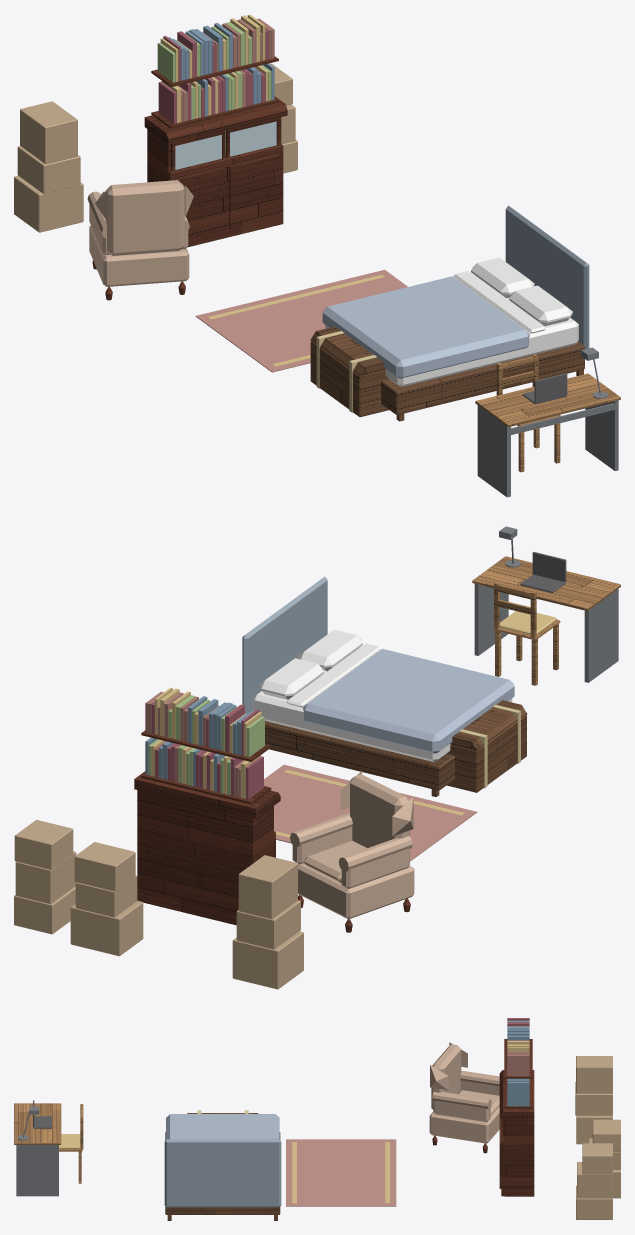
The model's file is furn_a_l.glb.
The picture shows the model from 3 angles, top to bottom: view 1: azimuth 30°, elevation 25°; view 2: azimuth 150°, elevation 25°; view 3: azimuth 270°, elevation 25°; orthographic projection. The views are drawn at different scales.
Visible parts, largest first — view 1: furn_a_l_mahog, furn_a_l_bed_b, furn_a_l_fabric_t, furn_a_l_dkwood, furn_a_l_basket, furn_a_l_rug, furn_a_l_bed_w, furn_a_l_fabric2, furn_a_l_steel_d, furn_a_l_wood, furn_a_l_cushion, furn_a_l_velvet (+5 smaller); view 2: furn_a_l_basket, furn_a_l_mahog, furn_a_l_bed_b, furn_a_l_fabric_t, furn_a_l_dkwood, furn_a_l_bed_w, furn_a_l_rug, furn_a_l_wood, furn_a_l_fabric2, furn_a_l_steel_d, furn_a_l_cushion, furn_a_l_velvet (+5 smaller); view 3: furn_a_l_fabric2, furn_a_l_rug, furn_a_l_basket, furn_a_l_fabric_t, furn_a_l_mahog, furn_a_l_bed_b, furn_a_l_steel_d, furn_a_l_wood, furn_a_l_cushion, furn_a_l_book2, furn_a_l_dkwood, furn_a_l_book.
Boxes of the visible parts, box(x1,y1,x2,y2) form: furn_a_l_mahog: box(92, 56, 287, 300); furn_a_l_bed_b: box(322, 276, 529, 378); furn_a_l_fabric_t: box(87, 180, 193, 286); furn_a_l_dkwood: box(310, 326, 584, 421); furn_a_l_basket: box(14, 63, 297, 232); furn_a_l_rug: box(195, 269, 407, 372); furn_a_l_bed_w: box(325, 257, 578, 387); furn_a_l_fabric2: box(505, 205, 589, 348); furn_a_l_steel_d: box(477, 347, 618, 497); furn_a_l_wood: box(475, 354, 620, 472); furn_a_l_cushion: box(160, 14, 384, 366); furn_a_l_velvet: box(158, 28, 268, 123); furn_a_l_basket: box(14, 820, 303, 989); furn_a_l_mahog: box(134, 730, 410, 932); furn_a_l_bed_b: box(303, 649, 514, 753); furn_a_l_fabric_t: box(290, 771, 414, 919); furn_a_l_dkwood: box(265, 700, 527, 796); furn_a_l_bed_w: box(253, 629, 512, 762); furn_a_l_rug: box(264, 764, 477, 861); furn_a_l_wood: box(472, 556, 620, 685); furn_a_l_fabric2: box(242, 576, 327, 713); furn_a_l_steel_d: box(474, 526, 618, 682); furn_a_l_cushion: box(152, 611, 556, 837); furn_a_l_velvet: box(151, 702, 263, 799); furn_a_l_fabric2: box(164, 1139, 281, 1207); furn_a_l_rug: box(286, 1139, 396, 1206); furn_a_l_basket: box(575, 1056, 620, 1219); furn_a_l_fabric_t: box(429, 1042, 499, 1143); furn_a_l_mahog: box(432, 1039, 534, 1196); furn_a_l_bed_b: box(166, 1114, 279, 1139); furn_a_l_steel_d: box(16, 1106, 58, 1196); furn_a_l_wood: box(14, 1103, 83, 1183); furn_a_l_cushion: box(59, 1041, 529, 1203); furn_a_l_book2: box(507, 1020, 529, 1106); furn_a_l_dkwood: box(165, 1113, 280, 1220); furn_a_l_book: box(507, 1040, 529, 1076).
Size of the model in its own units: 3.07 by 2.01 by 7.7.
18 materials, 3 textured.
